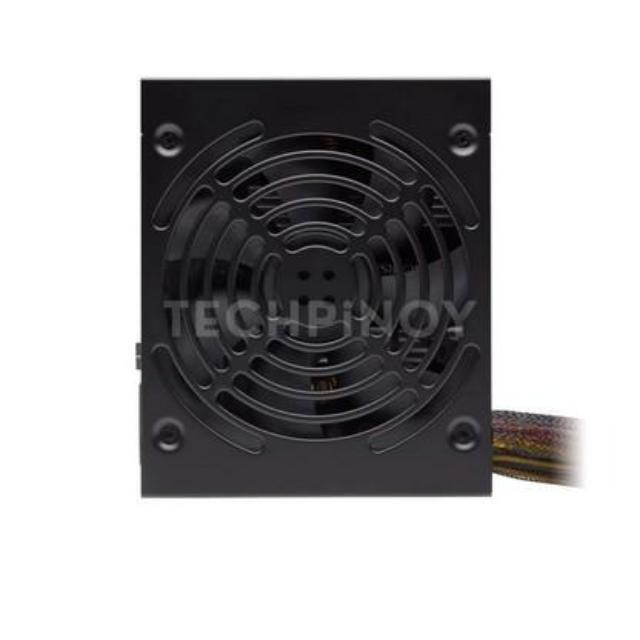PSU: (122, 64, 513, 519)
